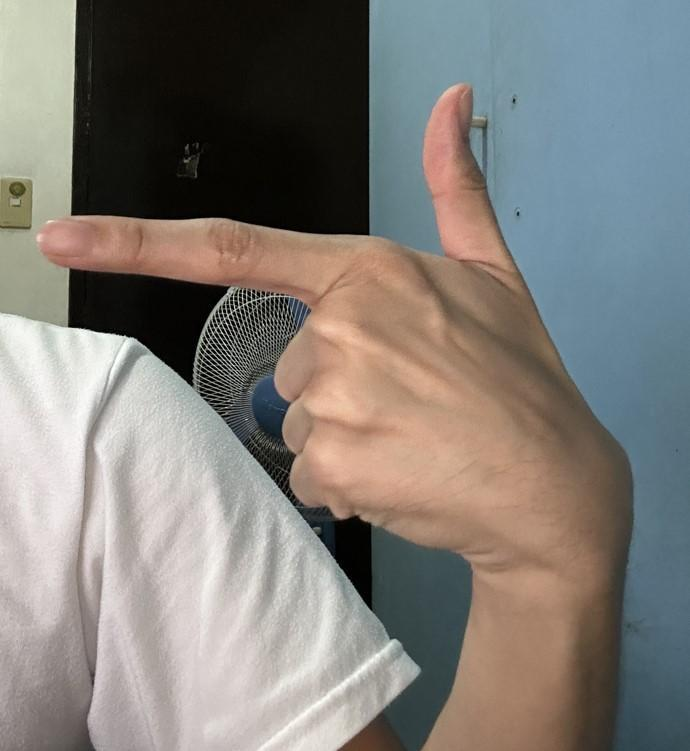g: (33, 79, 639, 578)
